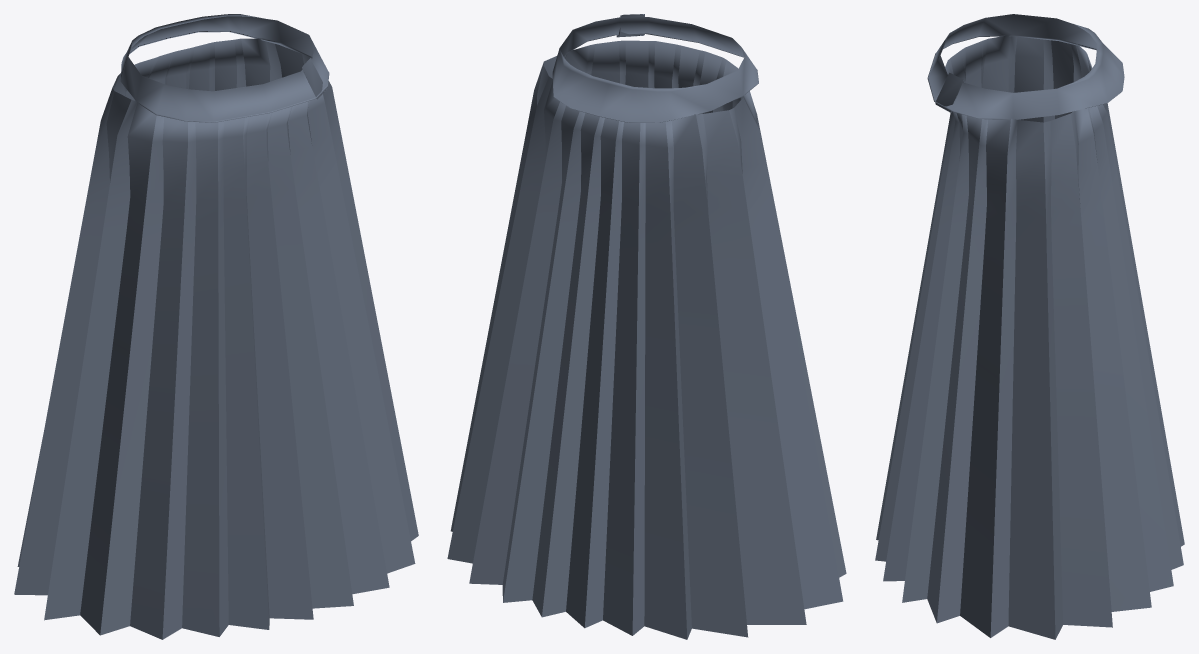
The model's file is long-skirt-only.glb.
The picture shows the model from 3 angles, left to right: view 1: azimuth 30°, elevation 25°; view 2: azimuth 150°, elevation 25°; view 3: azimuth 270°, elevation 25°; orthographic projection. The views are drawn at different scales.
Visible parts, largest first — view 1: Lowerwear_long-skirt; view 2: Lowerwear_long-skirt; view 3: Lowerwear_long-skirt.
Boxes of the visible parts, box(x1,y1,x2,y2) form: Lowerwear_long-skirt: box(14, 14, 418, 639); Lowerwear_long-skirt: box(447, 14, 846, 639); Lowerwear_long-skirt: box(875, 14, 1184, 639).
Bounding box in the file's own units: 1.6 × 2.13 × 1.2.
